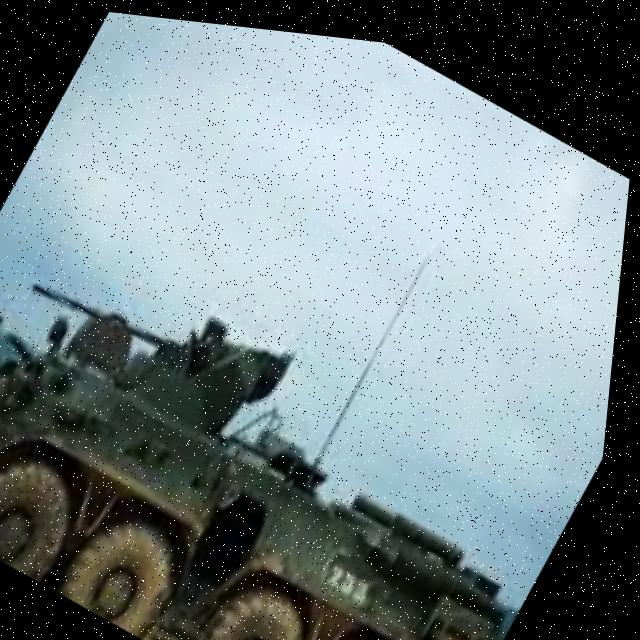MIL_APC: (0, 214, 590, 640)
